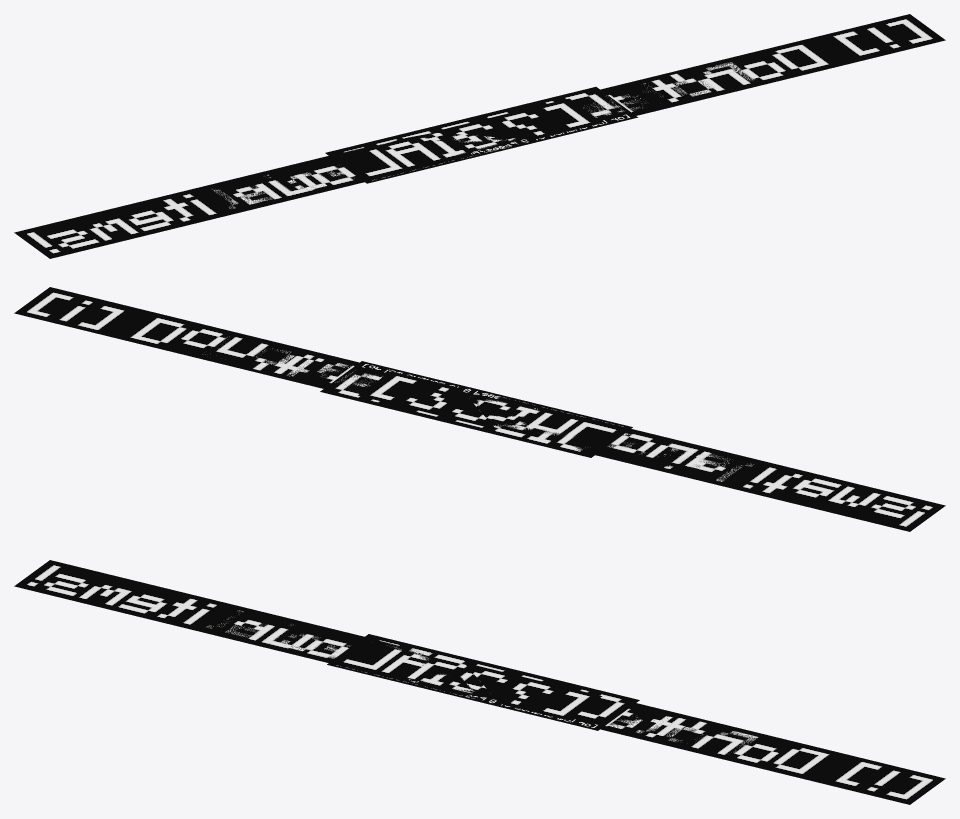
The model's file is PreClassicAlt.fbx.
3 views of the same model, one above another, from view 1: azimuth 30°, elevation 25°; view 2: azimuth 150°, elevation 25°; view 3: azimuth 330°, elevation 25° (orthographic).
Parts seen in each view (by area): view 1: items, classic, special, IDK, potential; view 2: items, classic, IDK, special, potential; view 3: items, classic, special, IDK, potential.
Boxes of the visible parts, x1,y1,x2,y2 form: items: (14,14,945,258); classic: (325,87,637,183); special: (331,137,529,181); IDK: (431,98,602,139); potential: (212,62,754,208); items: (14,287,945,531); classic: (320,361,632,457); IDK: (358,371,495,429); special: (477,397,628,454); potential: (202,336,753,481); items: (14,560,945,804); classic: (327,634,639,730); special: (331,637,483,700); IDK: (464,662,601,720); potential: (206,610,758,752).
Size of the model in its own units: 17.2 by 0.00363 by 1.4.
